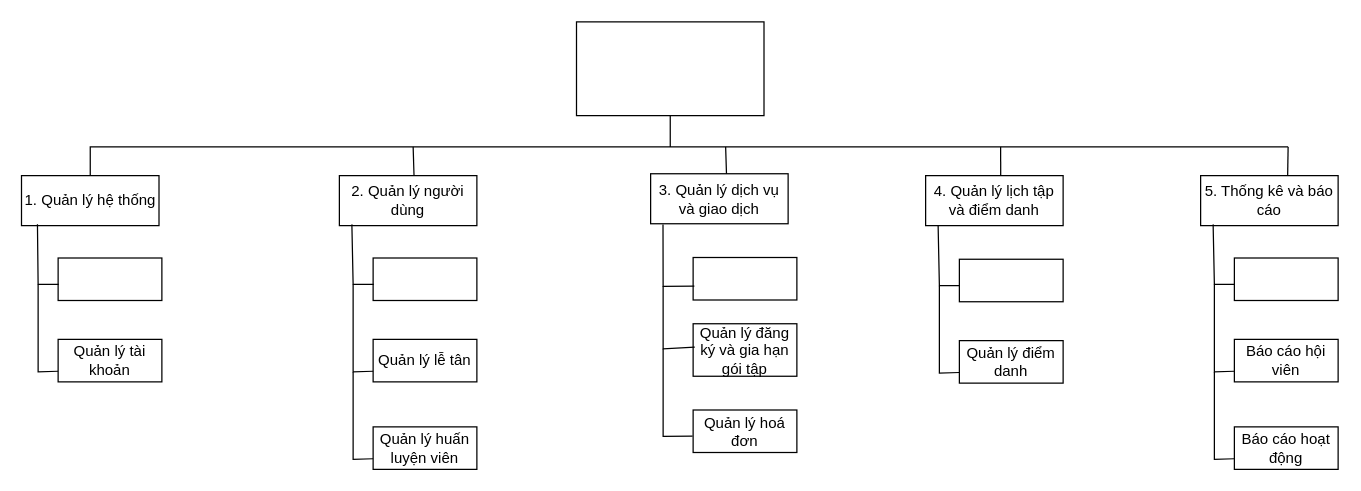
Image size: 1361x491. Some labels were removed from this diagram. Here are the shapes that lost their labels. From the top down, the box of each, then its label:
(575, 21, 764, 116): Hệ thống quản lý phòng tập Gym
(57, 257, 162, 300): Đăng nhập/Đăng xuất
(372, 257, 477, 300): Quản lý hội viên
(692, 256, 797, 300): Quản lý gói tập
(958, 258, 1063, 302): Quản lý lịch tập PT
(1233, 257, 1338, 300): Báo cáo doanh thu
